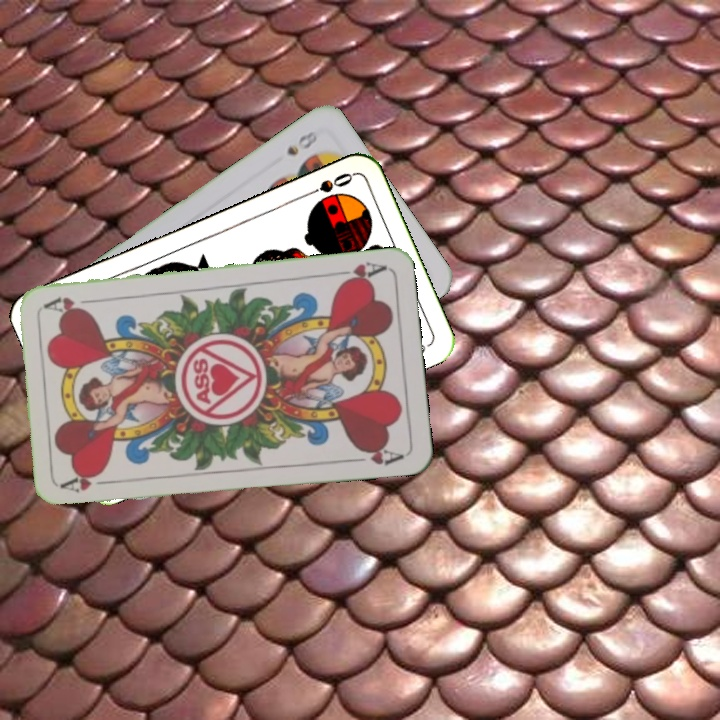HA: (329, 258, 388, 287), (59, 471, 118, 496)
S8: (282, 126, 320, 158)
SO: (300, 168, 356, 200)
